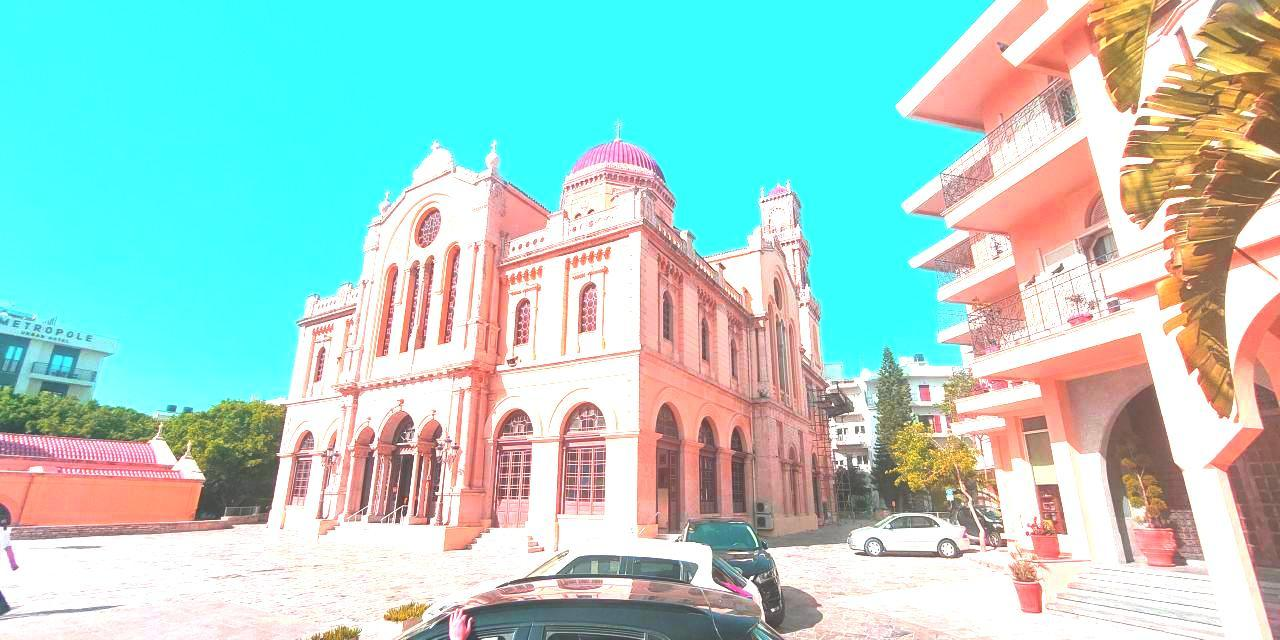Agios Minas: (271, 118, 845, 544)
